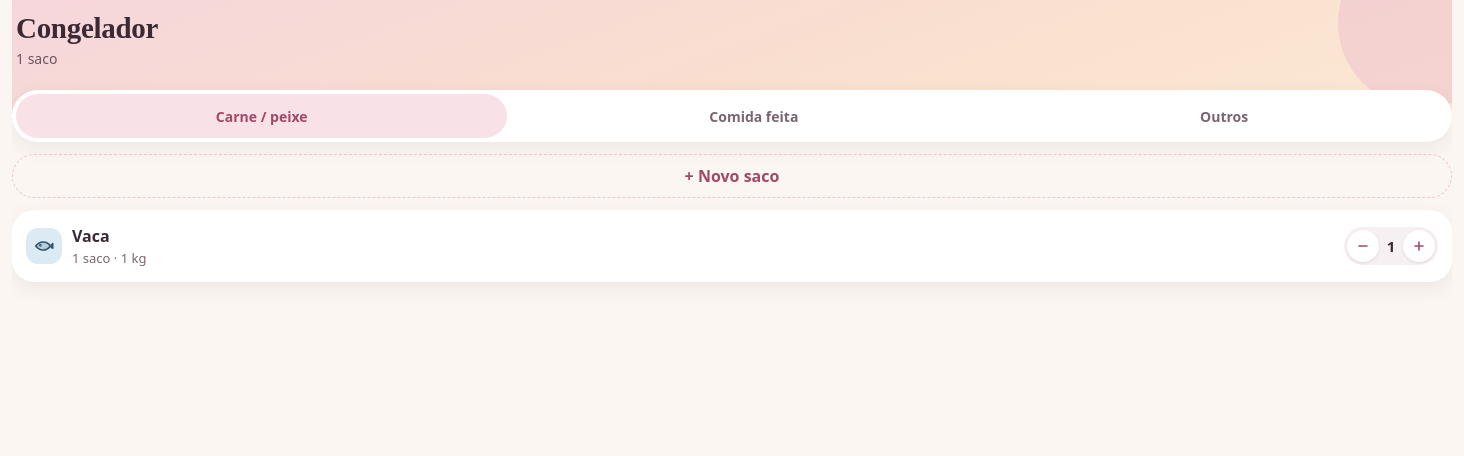
Test: a typed amount per bag shows the new total when it differs
Click the text "Vaca" at (91, 236), box [72,225,110,247]
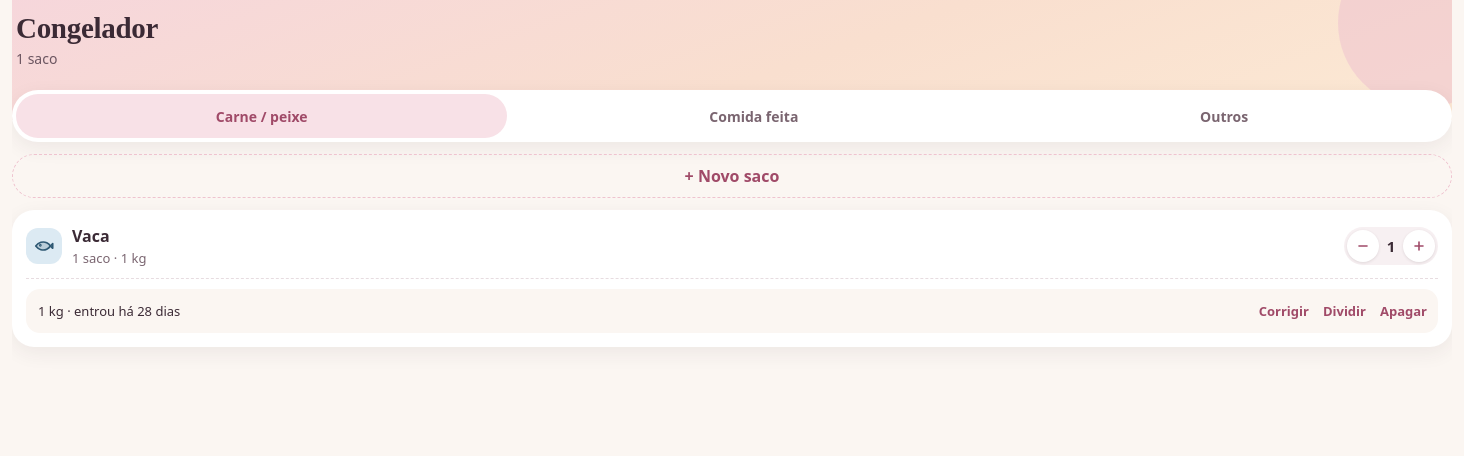
Click the button with aria-label "Dividir o saco 1" at (1344, 311), box [1316,289,1373,333]
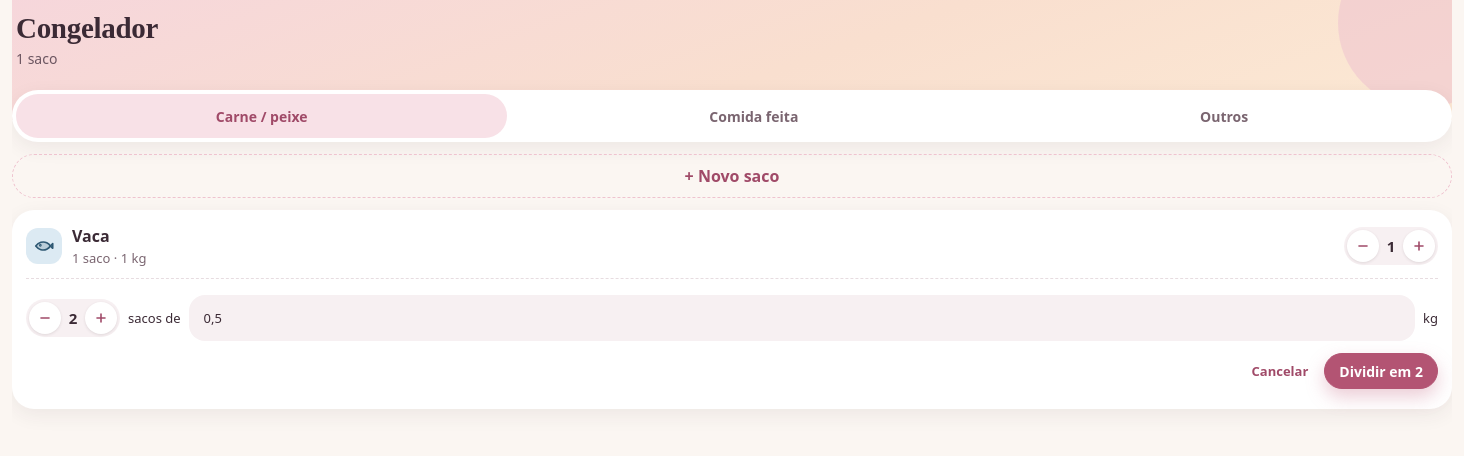
Expected: the text "Total" is not shown
Replace the text in the field named "Quantidade por saco" with "0,4" at (802, 318), box [189,295,1415,341]
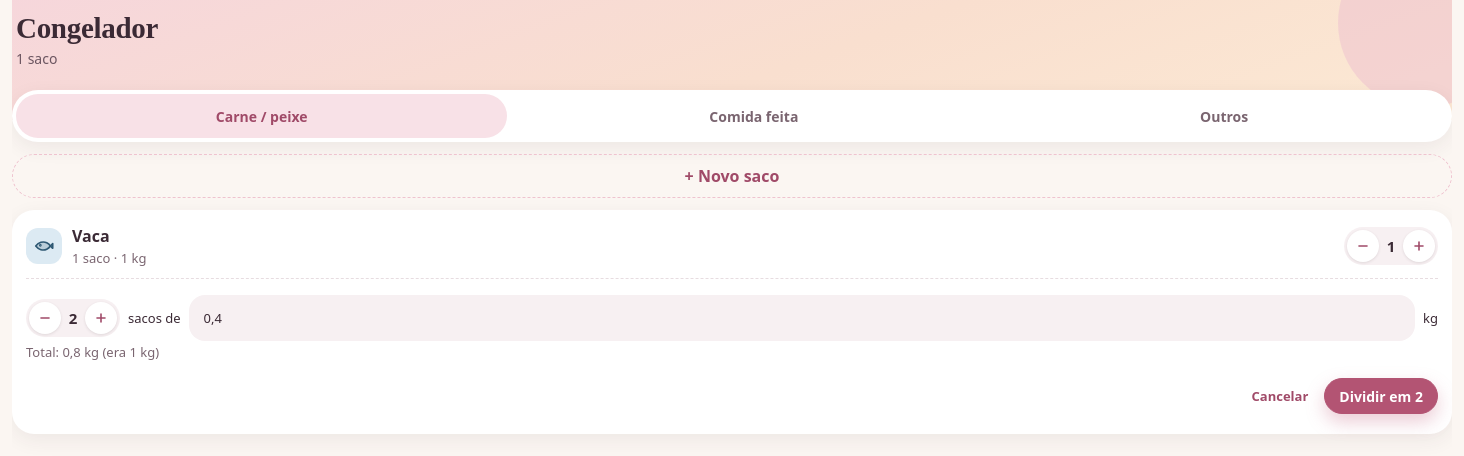
Click the button named "Mais sacos" at (101, 318), box [85,302,117,334]
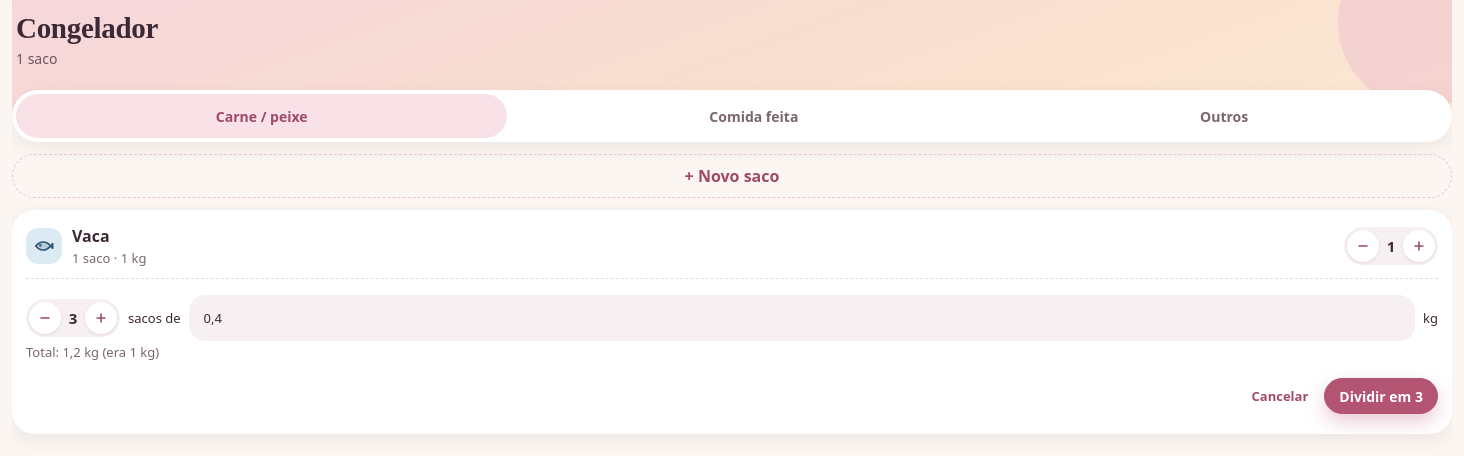
Expected: the text "Total: 1,2 kg (era 1 kg)" is shown, [26,343,159,361]
